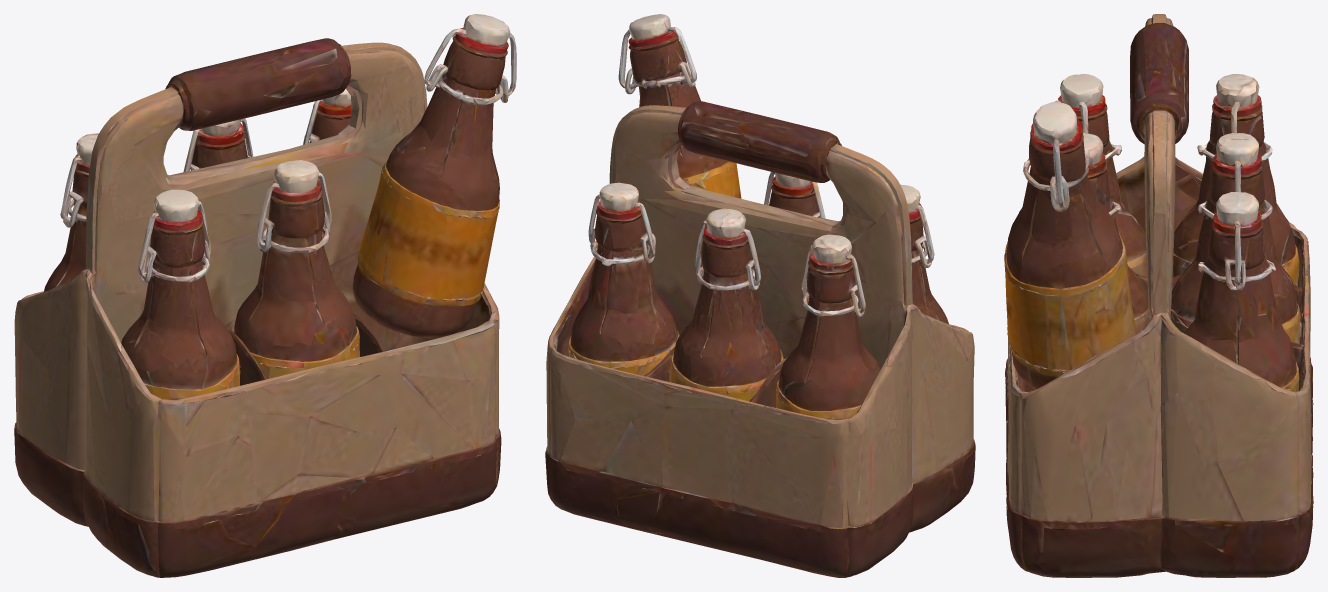
Rendered from brewkit.glb.
The picture shows the model from 3 angles, left to right: view 1: azimuth 30°, elevation 25°; view 2: azimuth 150°, elevation 25°; view 3: azimuth 270°, elevation 25°; orthographic projection. The views are drawn at different scales.
Bounding box in the file's own units: 1.64 × 1.9 × 1.11.
Materials: 1 (1 with a texture image).
